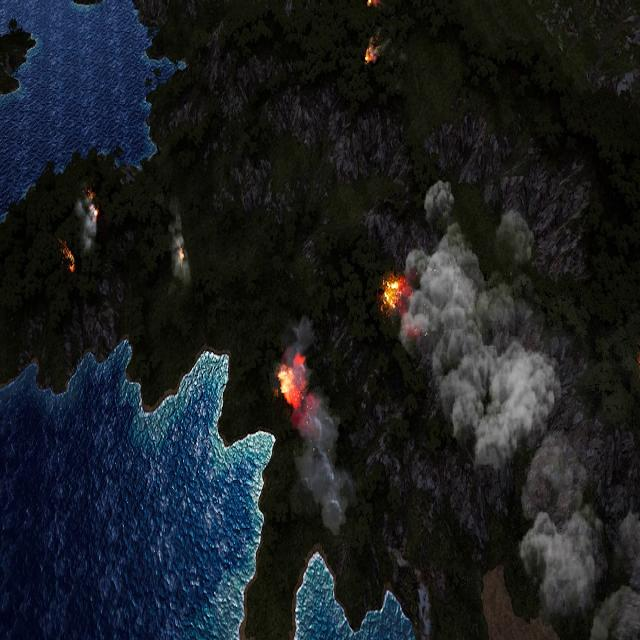fire: (276, 354, 306, 405), (381, 274, 409, 314), (61, 242, 77, 272), (362, 37, 378, 66), (88, 192, 98, 222), (178, 244, 185, 266)
smoke: (399, 178, 638, 636), (276, 314, 353, 533), (170, 205, 194, 282), (75, 190, 100, 252)
